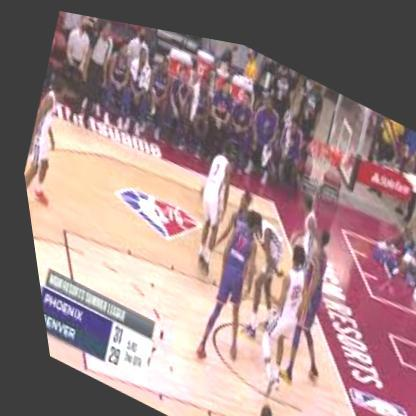rim: (305, 121, 335, 151)
